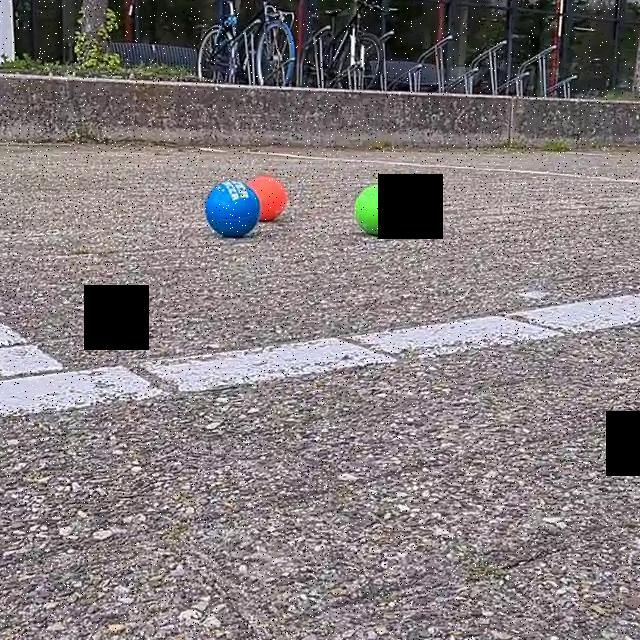ball: (205, 179, 262, 240), (352, 182, 407, 236), (244, 175, 292, 220)
